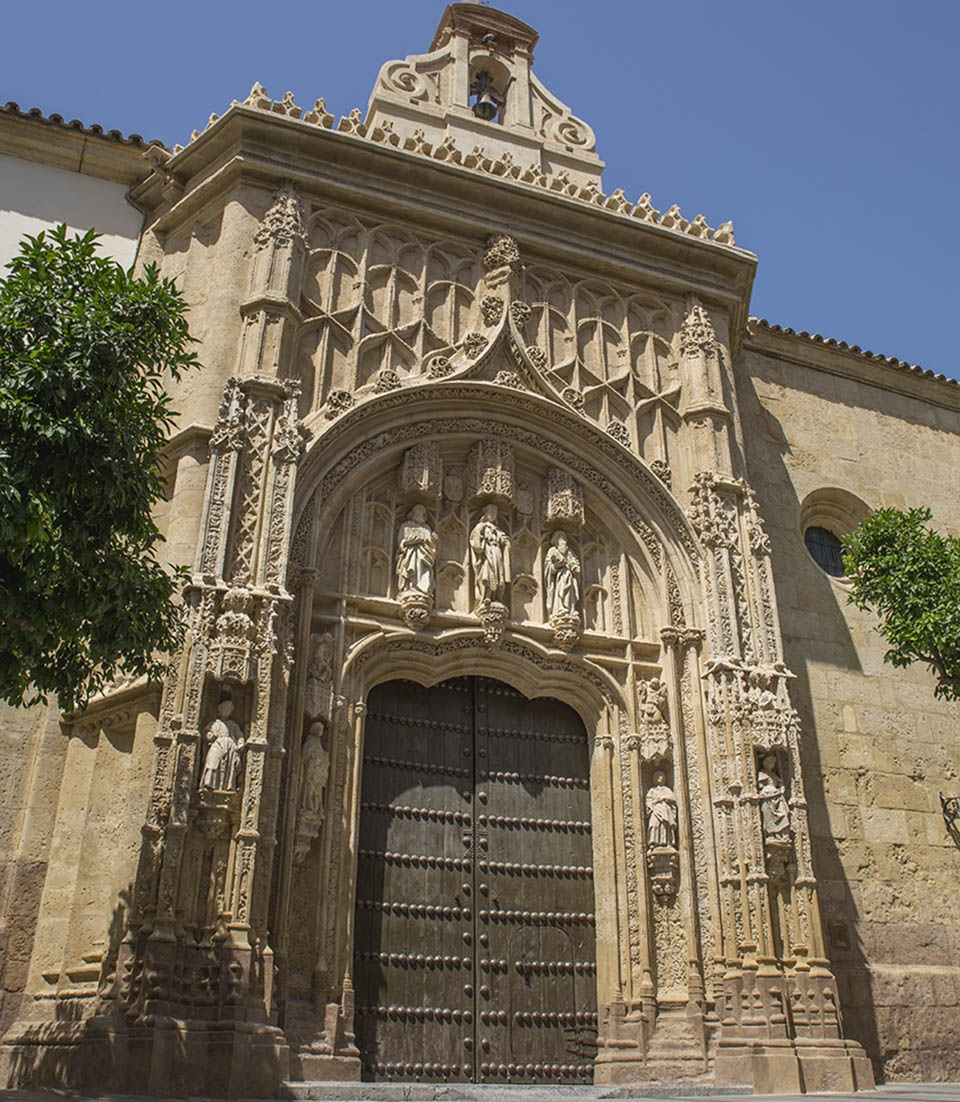arco-conopial: (328, 306, 643, 444)
arco-trilobulado: (353, 640, 606, 735)
